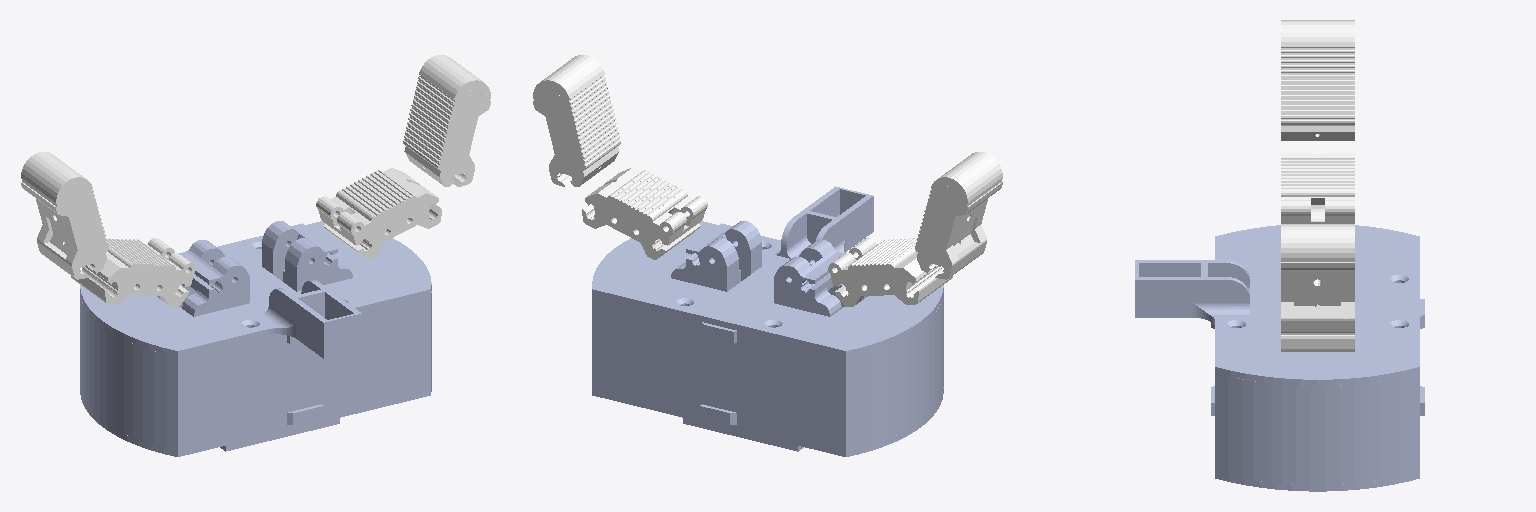
URDF robot description (hand_f3):
<?xml version="1.0" encoding="utf-8"?>
<!-- This URDF was automatically created by SolidWorks to URDF Exporter! Originally created by Stephen Brawner (brawner@gmail.com) 
     Commit Version: 1.6.0-4-g7f85cfe  Build Version: 1.6.7995.38578
     For more information, please see http://wiki.ros.org/sw_urdf_exporter -->
<robot
  name="hand_f3">
  <link
    name="base_link">
    <inertial>
      <origin
        xyz="-0.00242451004932212 0.00648612662714031 -0.0659697082742633"
        rpy="0 0 0" />
      <mass
        value="0.0282948998273711" />
      <inertia
        ixx="3.8131421625699E-06"
        ixy="2.13319540219769E-21"
        ixz="5.74868793046512E-14"
        iyy="4.99127205065405E-06"
        iyz="-8.5343497611391E-22"
        izz="2.54826021254666E-06" />
    </inertial>
    <visual>
      <origin
        xyz="0 0 0"
        rpy="0 0 0" />
      <geometry>
        <mesh
          filename="package://hand_f3/meshes/base_link.STL" scale="0.001 0.001 0.001"/>
      </geometry>
      <material
        name="">
        <color
          rgba="0.792156862745098 0.819607843137255 0.933333333333333 1" />
      </material>
    </visual>
    <collision>
      <origin
        xyz="0 0 0"
        rpy="0 0 0" />
      <geometry>
        <mesh
          filename="package://hand_f3/meshes/base_link.STL" scale="0.001 0.001 0.001"/>
      </geometry>
    </collision>
  </link>
  <link
    name="l_0">
    <inertial>
      <origin
        xyz="-0.0158749999890442 0.00775687408846691 -0.0255298500015736"
        rpy="0 0 0" />
      <mass
        value="0.0177441593289259" />
      <inertia
        ixx="2.9727640243541E-06"
        ixy="-1.61308653137004E-14"
        ixz="-5.26758623698131E-15"
        iyy="4.45176359830134E-06"
        iyz="5.37651600490329E-07"
        izz="1.92278360297967E-06" />
    </inertial>
    <visual>
      <origin
        xyz="0 0 0"
        rpy="0 0 0" />
      <geometry>
        <mesh
          filename="package://hand_f3/meshes/l_0.STL" />
      </geometry>
      <material
        name="">
        <color
          rgba="1 1 1 1" />
      </material>
    </visual>
    <collision>
      <origin
        xyz="0 0 0"
        rpy="0 0 0" />
      <geometry>
        <mesh
          filename="package://hand_f3/meshes/l_0.STL" />
      </geometry>
    </collision>
  </link>
  <joint
    name="l_0"
    type="revolute">
    <origin
      xyz="0.035949 0.050095 0.017336"
      rpy="1.5708 0 -1.5708" />
    <parent
      link="base_link" />
    <child
      link="l_0" />
    <axis
      xyz="1 0 0" />
    <limit
      lower="0"
      upper="0"
      effort="0"
      velocity="0" />
  </joint>
  <link
    name="l_1">
    <inertial>
      <origin
        xyz="-0.0158749999420901 0.0292604468415955 -0.00963078262546309"
        rpy="0 0 0" />
      <mass
        value="0.0264221898596264" />
      <inertia
        ixx="5.41801569819634E-06"
        ixy="-8.16965302413243E-15"
        ixz="-7.52757913997099E-15"
        iyy="3.23431574657872E-06"
        iyz="1.34789481254355E-06"
        izz="6.66849053703843E-06" />
    </inertial>
    <visual>
      <origin
        xyz="0 0 0"
        rpy="0 0 0" />
      <geometry>
        <mesh
          filename="package://hand_f3/meshes/l_1.STL" />
      </geometry>
      <material
        name="">
        <color
          rgba="1 1 1 1" />
      </material>
    </visual>
    <collision>
      <origin
        xyz="0 0 0"
        rpy="0 0 0" />
      <geometry>
        <mesh
          filename="package://hand_f3/meshes/l_1.STL" />
      </geometry>
    </collision>
  </link>
  <joint
    name="l_1"
    type="revolute">
    <origin
      xyz="0 0.015839 -0.050979"
      rpy="0 0 0" />
    <parent
      link="l_0" />
    <child
      link="l_1" />
    <axis
      xyz="1 0 0" />
    <limit
      lower="0"
      upper="0"
      effort="0"
      velocity="0" />
  </joint>
  <link
    name="r_0">
    <inertial>
      <origin
        xyz="0.0158750000109557 0.00775687408846695 -0.025529849977922"
        rpy="0 0 0" />
      <mass
        value="0.0177441593289259" />
      <inertia
        ixx="2.97276402435411E-06"
        ixy="-1.6130864978197E-14"
        ixz="-5.26758595879158E-15"
        iyy="4.45176359830135E-06"
        iyz="5.37651600490336E-07"
        izz="1.92278360297967E-06" />
    </inertial>
    <visual>
      <origin
        xyz="0 0 0"
        rpy="0 0 0" />
      <geometry>
        <mesh
          filename="package://hand_f3/meshes/r_0.STL" />
      </geometry>
      <material
        name="">
        <color
          rgba="1 1 1 1" />
      </material>
    </visual>
    <collision>
      <origin
        xyz="0 0 0"
        rpy="0 0 0" />
      <geometry>
        <mesh
          filename="package://hand_f3/meshes/r_0.STL" />
      </geometry>
    </collision>
  </link>
  <joint
    name="r_0"
    type="revolute">
    <origin
      xyz="-0.040798 0.050095 0.017336"
      rpy="1.5708 0 1.5708" />
    <parent
      link="base_link" />
    <child
      link="r_0" />
    <axis
      xyz="1 0 0" />
    <limit
      lower="0"
      upper="0"
      effort="0"
      velocity="0" />
  </joint>
  <link
    name="r_1">
    <inertial>
      <origin
        xyz="0.0158750000070716 0.0292604468415956 -0.00963078251801182"
        rpy="0 0 0" />
      <mass
        value="0.0264221898596264" />
      <inertia
        ixx="5.41801569819633E-06"
        ixy="-1.05449818026704E-15"
        ixz="-9.26674157421531E-16"
        iyy="3.23431574657871E-06"
        iyz="1.34789481254354E-06"
        izz="6.66849053703843E-06" />
    </inertial>
    <visual>
      <origin
        xyz="0 0 0"
        rpy="0 0 0" />
      <geometry>
        <mesh
          filename="package://hand_f3/meshes/r_1.STL" />
      </geometry>
      <material
        name="">
        <color
          rgba="1 1 1 1" />
      </material>
    </visual>
    <collision>
      <origin
        xyz="0 0 0"
        rpy="0 0 0" />
      <geometry>
        <mesh
          filename="package://hand_f3/meshes/r_1.STL" />
      </geometry>
    </collision>
  </link>
  <joint
    name="r_1"
    type="revolute">
    <origin
      xyz="0 0.015839 -0.050979"
      rpy="0 0 0" />
    <parent
      link="r_0" />
    <child
      link="r_1" />
    <axis
      xyz="1 0 0" />
    <limit
      lower="0"
      upper="0"
      effort="0"
      velocity="0" />
  </joint>
</robot>

--- Facts derived from the render (not from the file) ---
Views: 3 orthographic renders of the robot side by side, from view 1: azimuth 30°, elevation 25°; view 2: azimuth 150°, elevation 25°; view 3: azimuth 270°, elevation 25°.
Model hand_f3 with 5 links and 4 joints (4 revolute), rooted at base_link, posed all joints at 0.
Visible links, largest first — view 1: base_link, l_1, r_1, l_0, r_0; view 2: base_link, l_1, r_1, l_0, r_0; view 3: base_link, r_1, l_1, r_0, l_0.
Link boxes in pixels (bbox=[...]): base_link: bbox=[80, 221, 431, 456]; l_1: bbox=[403, 55, 490, 186]; r_1: bbox=[21, 152, 108, 279]; l_0: bbox=[316, 168, 441, 259]; r_0: bbox=[71, 238, 195, 306]; base_link: bbox=[592, 186, 943, 456]; l_1: bbox=[533, 55, 620, 186]; r_1: bbox=[915, 152, 1002, 279]; l_0: bbox=[582, 168, 707, 259]; r_0: bbox=[828, 237, 952, 306]; base_link: bbox=[1135, 225, 1424, 491]; r_1: bbox=[1281, 20, 1354, 140]; l_1: bbox=[1281, 224, 1354, 332]; r_0: bbox=[1281, 153, 1354, 223]; l_0: bbox=[1281, 305, 1354, 351].
Bounding box of the posed robot: 0.2276 × 0.1245 × 0.1504 m (x, y, z).
5 mesh visuals loaded from 5 distinct referenced files (5 binary STL).
